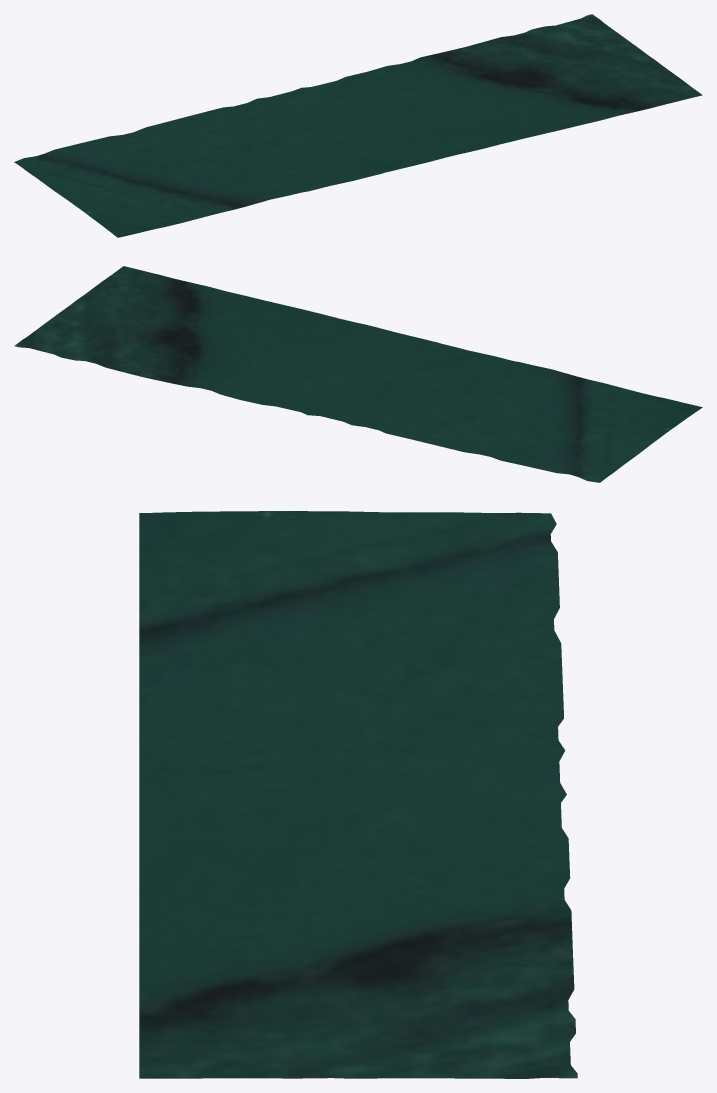
3 renders of one model, top to bottom at view 1: azimuth 30°, elevation 25°; view 2: azimuth 150°, elevation 25°; view 3: azimuth 270°, elevation 25°, orthographic. The views are drawn at different scales.
Bounding box in the file's own units: 209 × 0.7724 × 68.47.
Materials: 1 (1 with a texture image).
